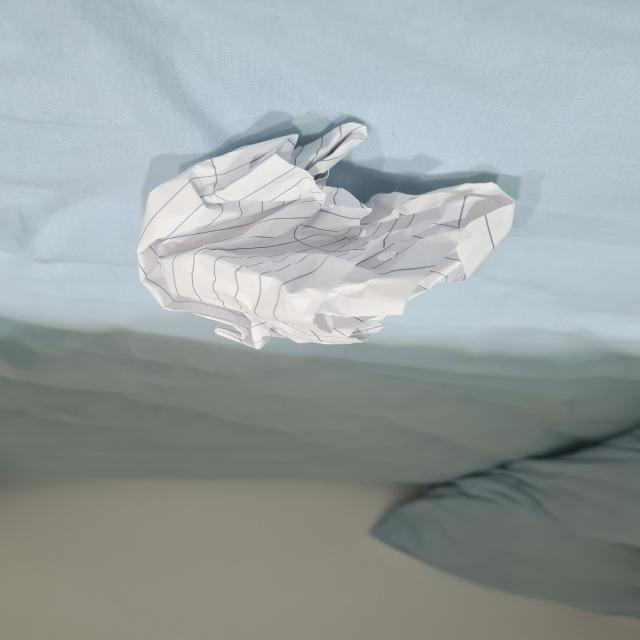Paper: (114, 89, 535, 379)
